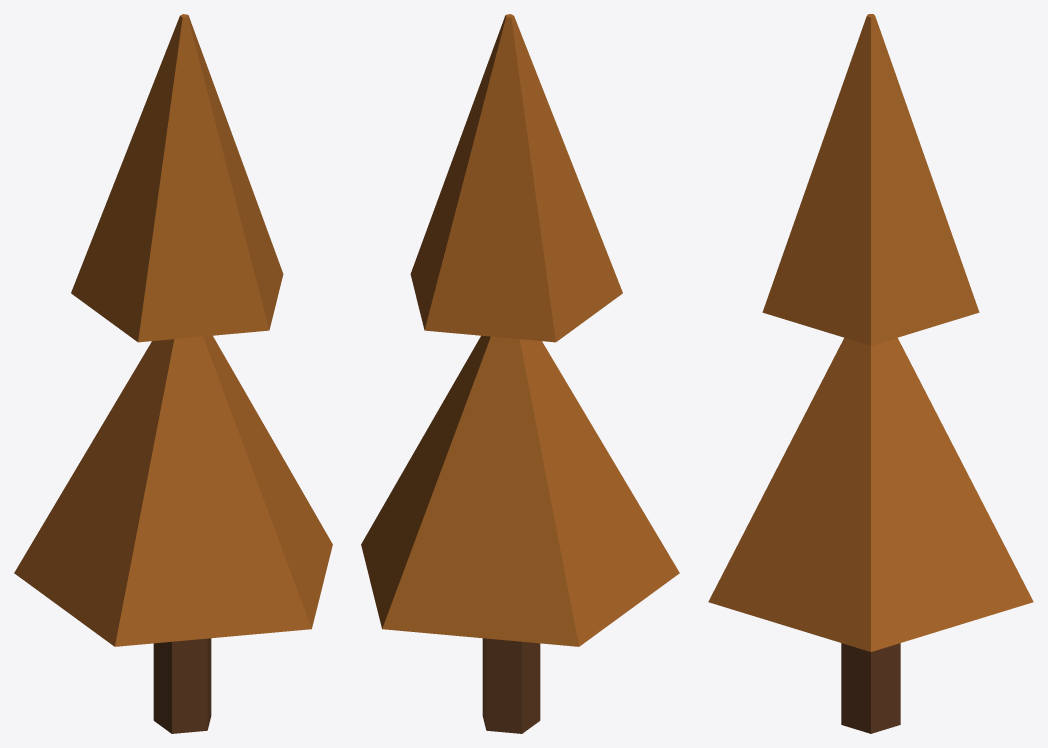
Rendered from pine-autumn-short.glb.
3 views of the same model, side by side, from view 1: azimuth 30°, elevation 25°; view 2: azimuth 150°, elevation 25°; view 3: azimuth 270°, elevation 25° (orthographic).
Parts seen in each view (by area): view 1: foliage-1, foliage-2, trunk; view 2: foliage-1, foliage-2, trunk; view 3: foliage-1, foliage-2, trunk.
Boxes of the visible parts, x1,y1,x2,y2 form: foliage-1: [14, 335, 332, 646]; foliage-2: [71, 14, 283, 342]; trunk: [153, 638, 211, 733]; foliage-1: [361, 335, 679, 646]; foliage-2: [410, 14, 622, 342]; trunk: [482, 638, 540, 733]; foliage-1: [708, 338, 1033, 651]; foliage-2: [762, 14, 979, 345]; trunk: [841, 643, 900, 733].
Bounding box in the file's own units: 1.19 × 3 × 1.26.
